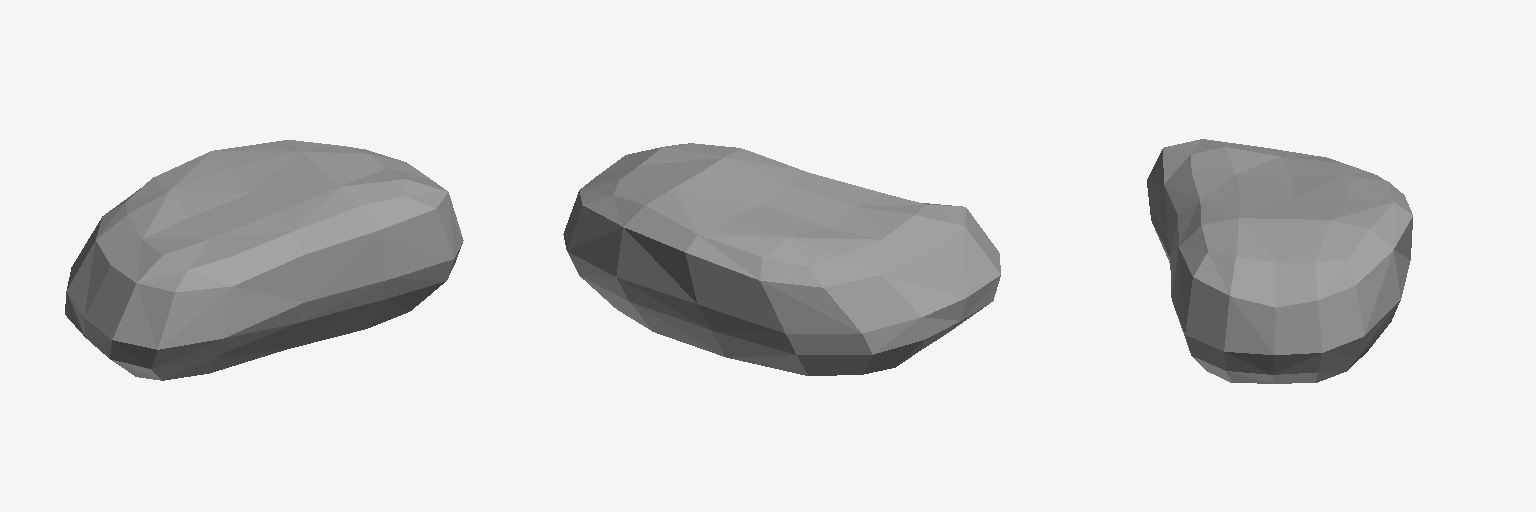
Rendered from stoned_2.obj.
3 views of the same model, side by side, from view 1: azimuth 30°, elevation 25°; view 2: azimuth 150°, elevation 25°; view 3: azimuth 270°, elevation 25° (orthographic).
Parts seen in each view (by area): view 1: Cube.001; view 2: Cube.001; view 3: Cube.001.
Part boxes in pixels (bbox=[...]): Cube.001: bbox=[65, 140, 463, 380]; Cube.001: bbox=[563, 143, 1000, 375]; Cube.001: bbox=[1147, 139, 1412, 383].
Bounding box in the file's own units: 4.96 × 1.74 × 3.03.